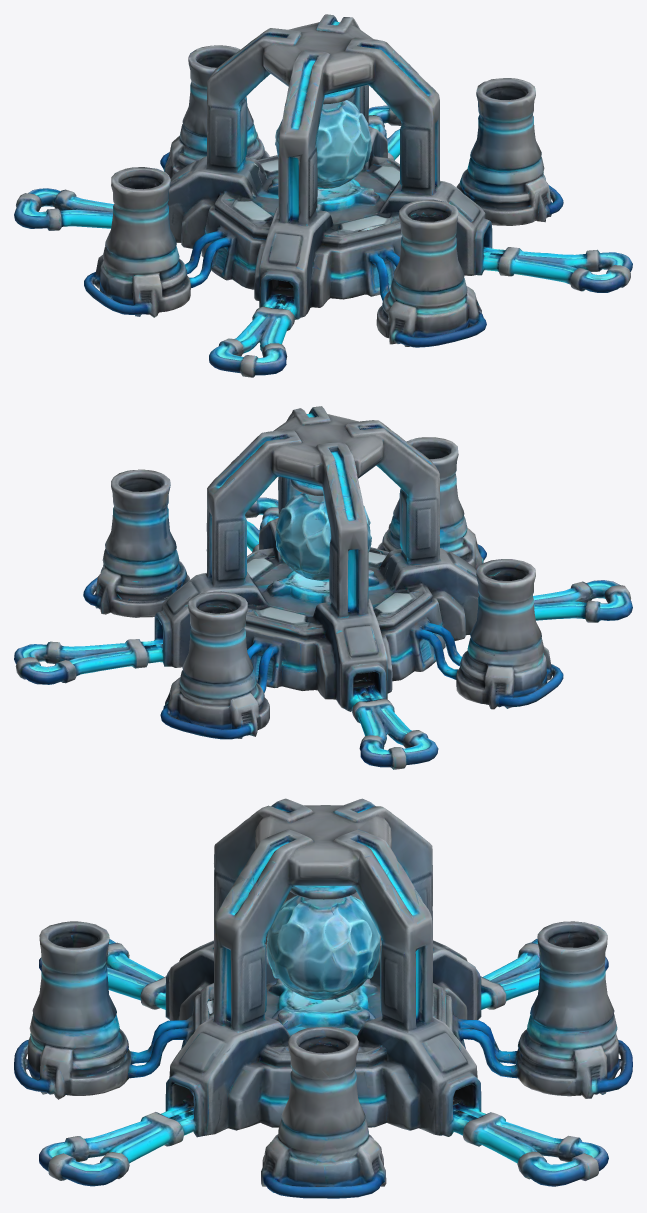
File: power_core.glb
3 renders of one model, top to bottom at view 1: azimuth 30°, elevation 25°; view 2: azimuth 150°, elevation 25°; view 3: azimuth 270°, elevation 25°, orthographic. The views are drawn at different scales.
Parts seen in each view (by area): view 1: Mesh1.0; view 2: Mesh1.0; view 3: Mesh1.0.
Part boxes in pixels (x1,y1,x2,y2): Mesh1.0: (14, 14, 632, 377); Mesh1.0: (14, 406, 632, 769); Mesh1.0: (14, 798, 632, 1198).
Bounding box in the file's own units: 1.91 × 0.8528 × 1.91.
1 material, 1 textured.
